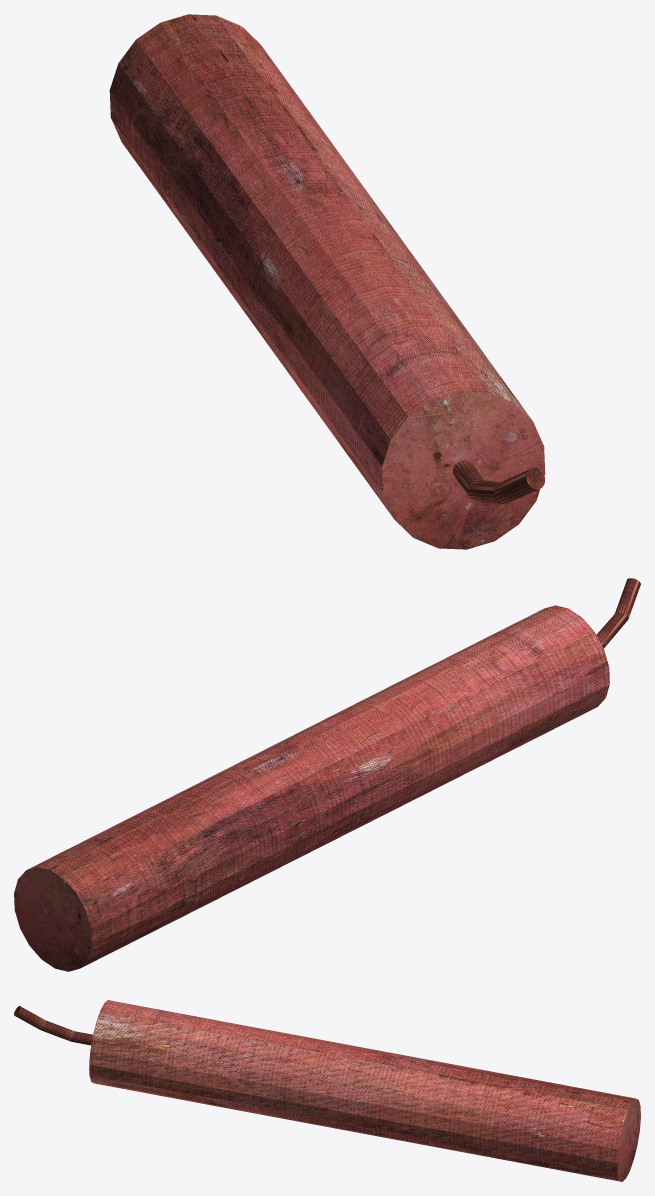
Rendered from Dynamite.fbx.
The picture shows the model from 3 angles, top to bottom: view 1: azimuth 30°, elevation 25°; view 2: azimuth 150°, elevation 25°; view 3: azimuth 270°, elevation 25°; orthographic projection. The views are drawn at different scales.
Parts seen in each view (by area): view 1: Dynamite; view 2: Dynamite; view 3: Dynamite.
Boxes of the visible parts, box(x1,y1,x2,y2) form: Dynamite: box(109, 14, 545, 549); Dynamite: box(14, 578, 640, 971); Dynamite: box(14, 1000, 640, 1181).
Size of the model in its own units: 20.52 by 11.19 by 56.34.
